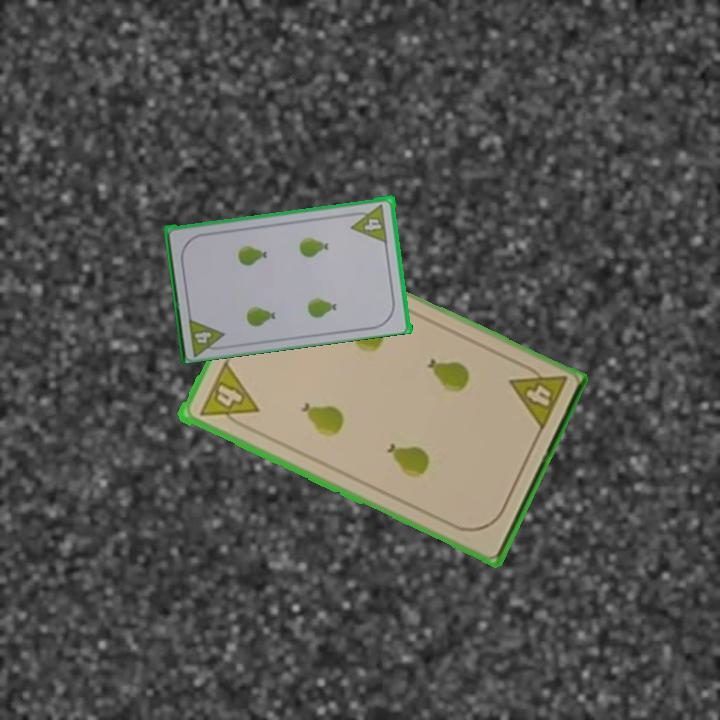4p: (505, 358, 570, 434), (195, 360, 261, 433), (349, 213, 387, 245), (191, 327, 214, 346)
